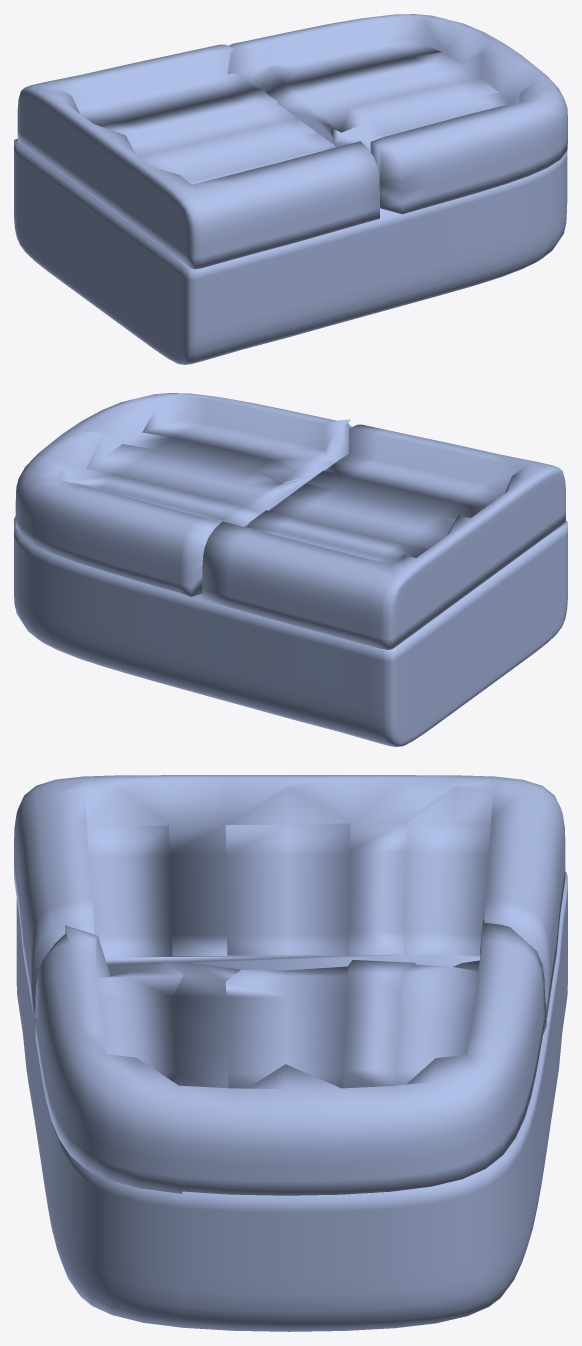
File: SlimeDeformSimulation.fbx
The picture shows the model from 3 angles, top to bottom: view 1: azimuth 30°, elevation 25°; view 2: azimuth 150°, elevation 25°; view 3: azimuth 270°, elevation 25°; orthographic projection. The views are drawn at different scales.
Parts seen in each view (by area): view 1: Slime, Slime.010, Slime.011; view 2: Slime, Slime.010, Slime.011; view 3: Slime.011, Slime.010, Slime.
Boxes of the visible parts, bbox=[...] form: Slime: bbox=[14, 139, 567, 364]; Slime.010: bbox=[17, 44, 379, 269]; Slime.011: bbox=[227, 14, 567, 214]; Slime: bbox=[14, 516, 567, 746]; Slime.010: bbox=[202, 424, 565, 649]; Slime.011: bbox=[15, 393, 351, 596]; Slime.011: bbox=[35, 920, 546, 1195]; Slime.010: bbox=[14, 775, 565, 1017]; Slime: bbox=[16, 872, 567, 1331].
Bounding box in the file's own units: 0.4401 × 0.1684 × 0.3162.
